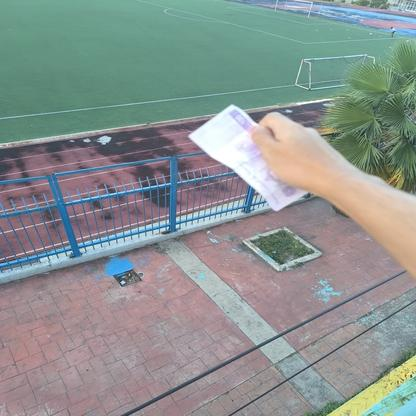vef_back: (186, 103, 310, 212)
